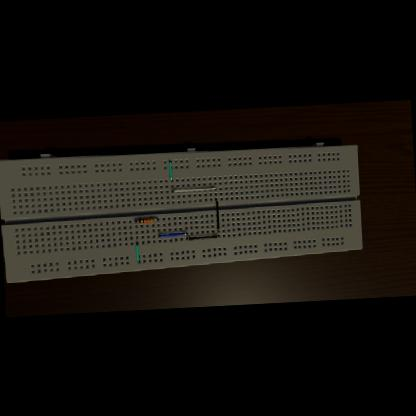breadboard: (0, 137, 363, 283)
resistor: (138, 218, 154, 223)
wire: (172, 188, 216, 192), (158, 232, 187, 238), (215, 198, 220, 231), (186, 235, 219, 240), (168, 160, 172, 182), (135, 243, 139, 263), (153, 218, 158, 220), (134, 220, 137, 222)
